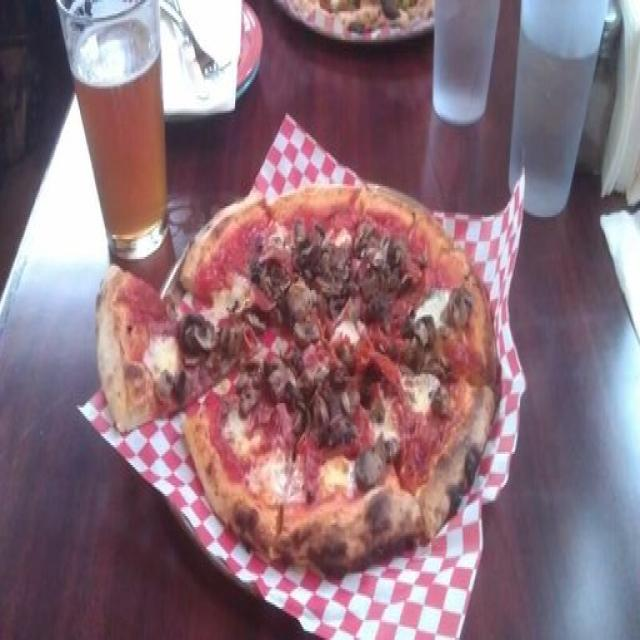Pizza: (99, 186, 498, 576)
